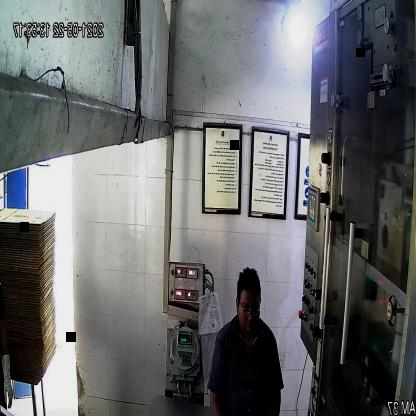goggles: (237, 297, 261, 323)
